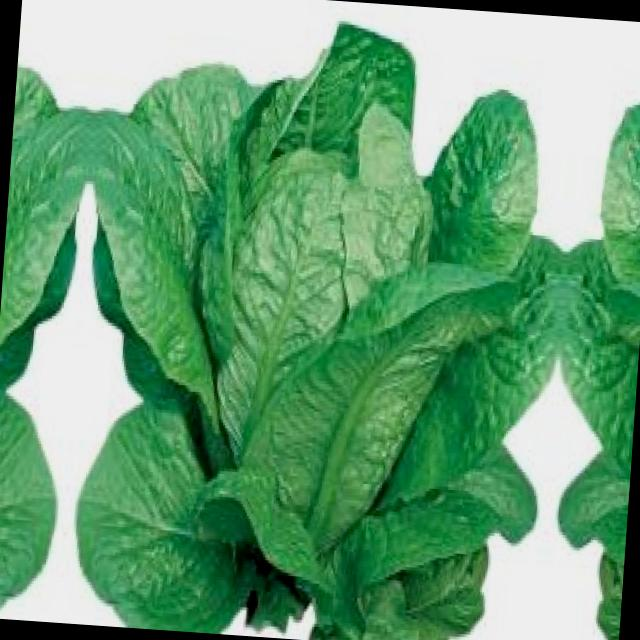healthy: (64, 4, 578, 640), (539, 37, 640, 640), (0, 0, 95, 622)
